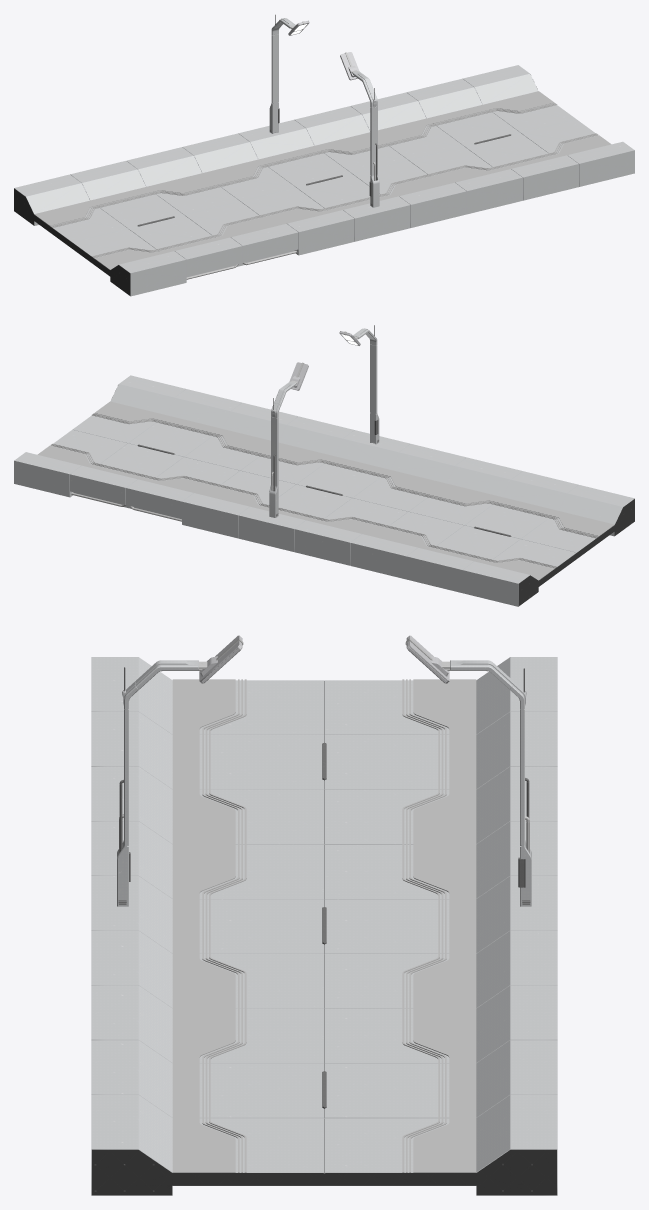
The model's file is K051_高科技街道_45.fbx.
3 views of the same model, one above another, from view 1: azimuth 30°, elevation 25°; view 2: azimuth 150°, elevation 25°; view 3: azimuth 270°, elevation 25° (orthographic). The views are drawn at different scales.
Visible parts, largest first — view 1: KB3D_HTS_Road_H_Main, KB3D_HTS_Road_H_LampA, KB3D_HTS_Road_H_LampB; view 2: KB3D_HTS_Road_H_Main, KB3D_HTS_Road_H_LampB, KB3D_HTS_Road_H_LampA; view 3: KB3D_HTS_Road_H_Main, KB3D_HTS_Road_H_LampB, KB3D_HTS_Road_H_LampA.
Boxes of the visible parts, x1,y1,x2,y2 form: KB3D_HTS_Road_H_Main: [14, 65, 634, 296]; KB3D_HTS_Road_H_LampA: [340, 52, 379, 207]; KB3D_HTS_Road_H_LampB: [269, 14, 309, 133]; KB3D_HTS_Road_H_Main: [14, 375, 634, 606]; KB3D_HTS_Road_H_LampB: [269, 362, 308, 517]; KB3D_HTS_Road_H_LampA: [339, 325, 379, 444]; KB3D_HTS_Road_H_Main: [91, 657, 557, 1195]; KB3D_HTS_Road_H_LampB: [405, 635, 531, 906]; KB3D_HTS_Road_H_LampA: [117, 635, 243, 906].
Size of the model in its own units: 20 by 5.89 by 8.
